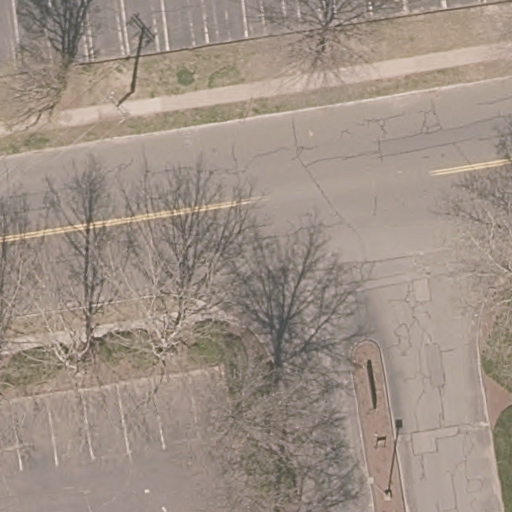DT: (95, 85, 132, 121)
